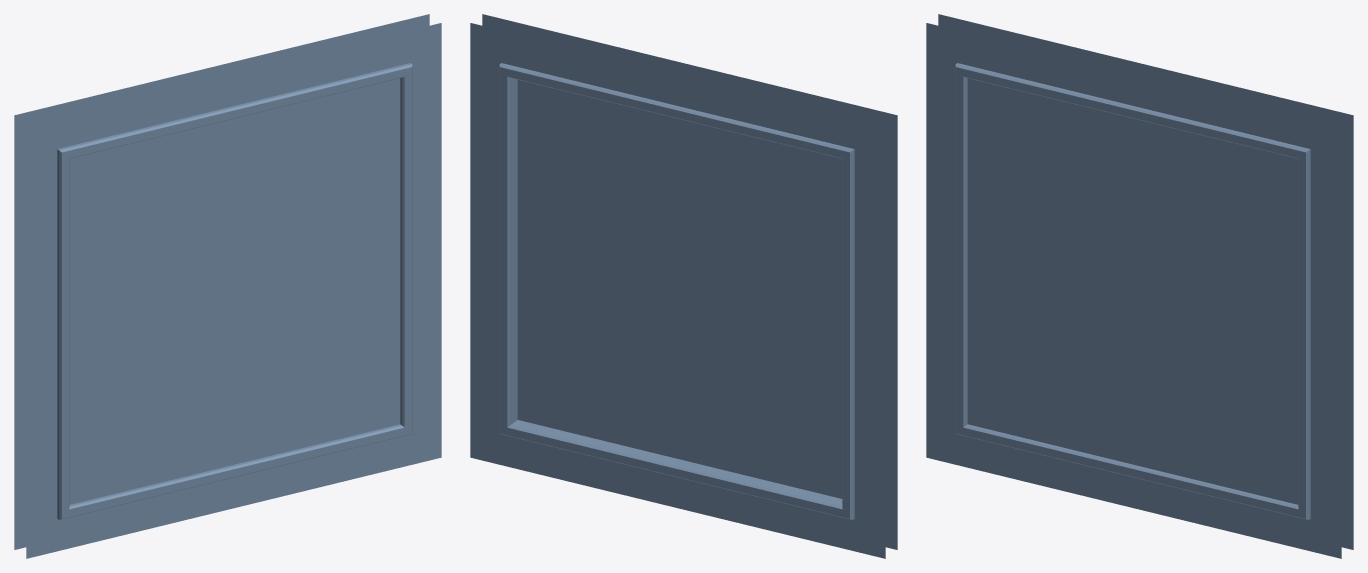
File: rcWindowAssy2x2.FBX
3 renders of one model, left to right at view 1: azimuth 30°, elevation 25°; view 2: azimuth 150°, elevation 25°; view 3: azimuth 330°, elevation 25°, orthographic.
Visible parts, largest first — view 1: windowGlass, wall2x2_window, windowFrame; view 2: windowGlass, wall2x2_window, windowFrame; view 3: windowGlass, wall2x2_window, windowFrame.
Part boxes in pixels (x1=…): windowGlass: x1=69, y1=78, x2=400, y2=504; wall2x2_window: x1=14, y1=14, x2=441, y2=558; windowFrame: x1=57, y1=63, x2=412, y2=519; windowGlass: x1=517, y1=79, x2=842, y2=498; wall2x2_window: x1=470, y1=14, x2=897, y2=558; windowFrame: x1=499, y1=63, x2=854, y2=519; windowGlass: x1=967, y1=78, x2=1298, y2=504; wall2x2_window: x1=926, y1=14, x2=1353, y2=558; windowFrame: x1=955, y1=63, x2=1310, y2=519.
Size of the model in its own units: 2 by 2 by 0.15.
